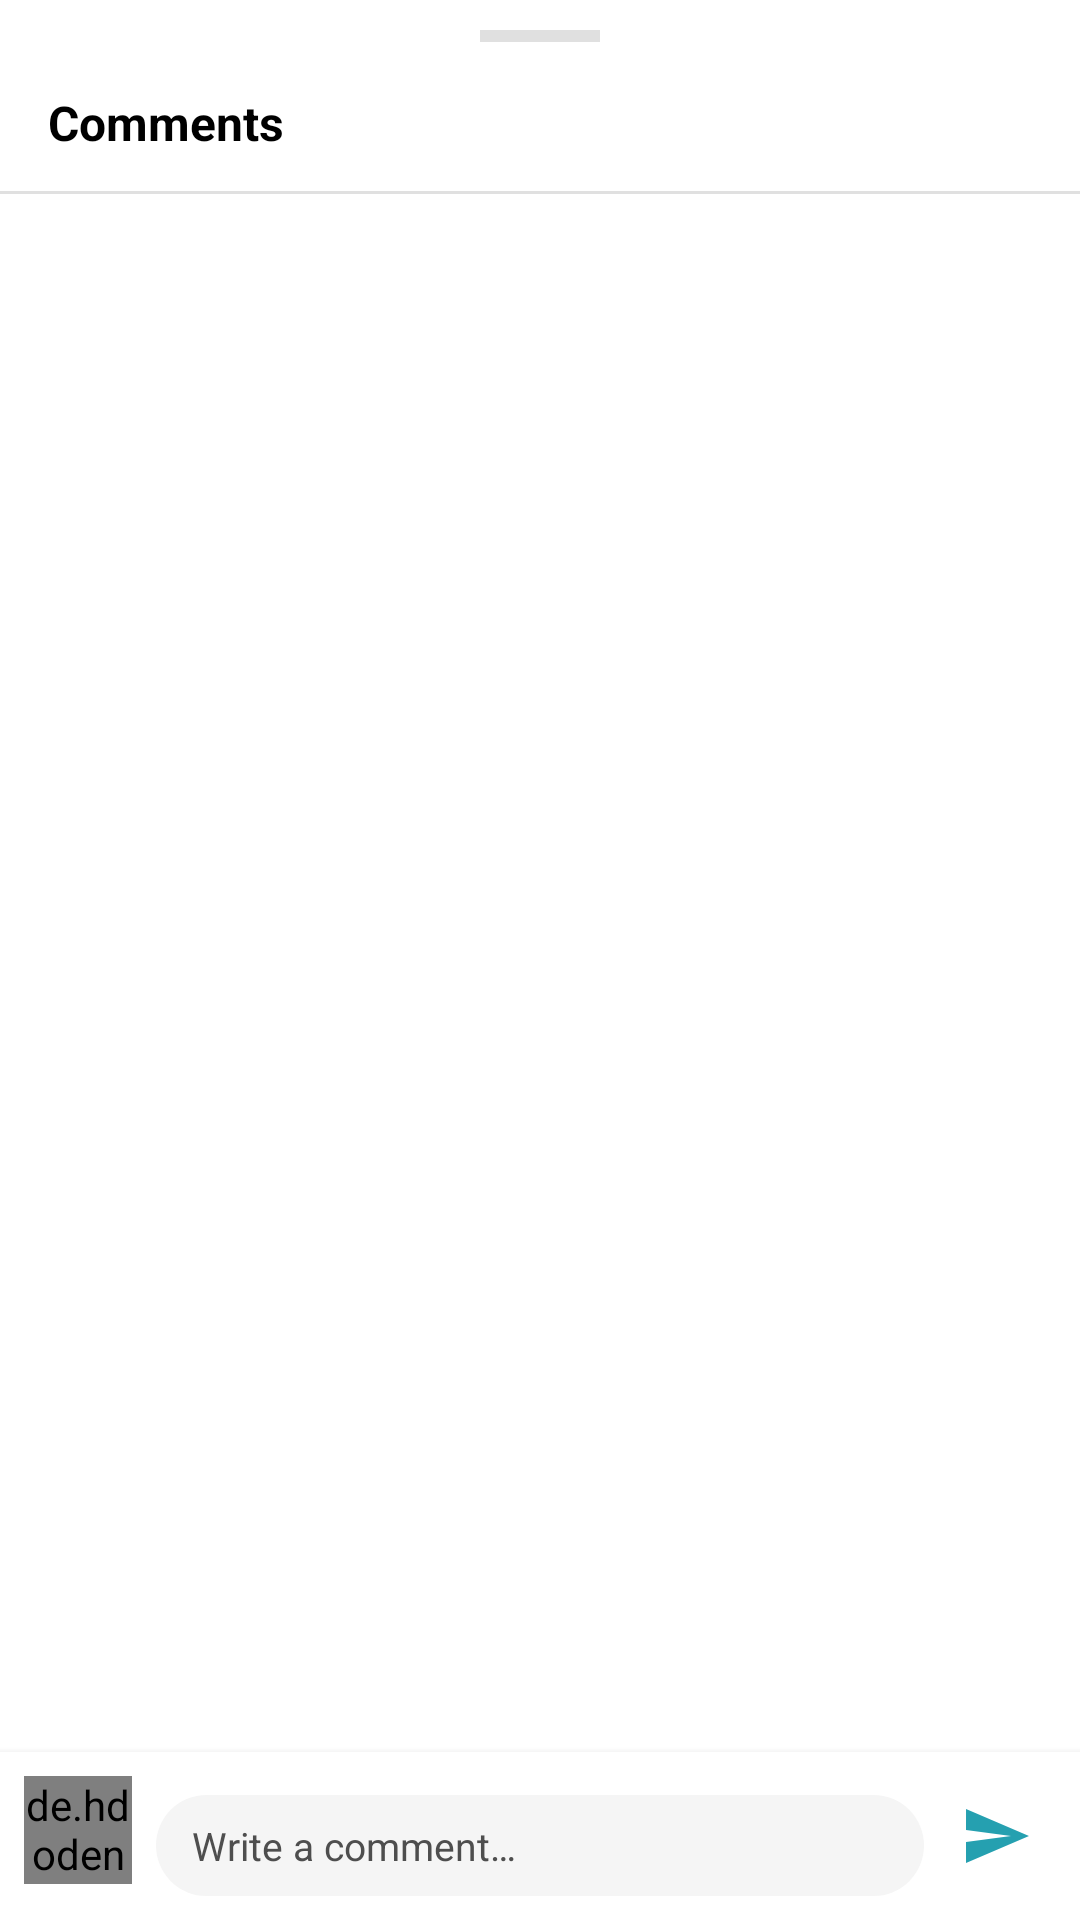

Named icons in this screenshot (1080px×1920px) and their bounding boxes, region(x1, y1, x2, y2):
post card send: region(966, 1809, 1029, 1863)
